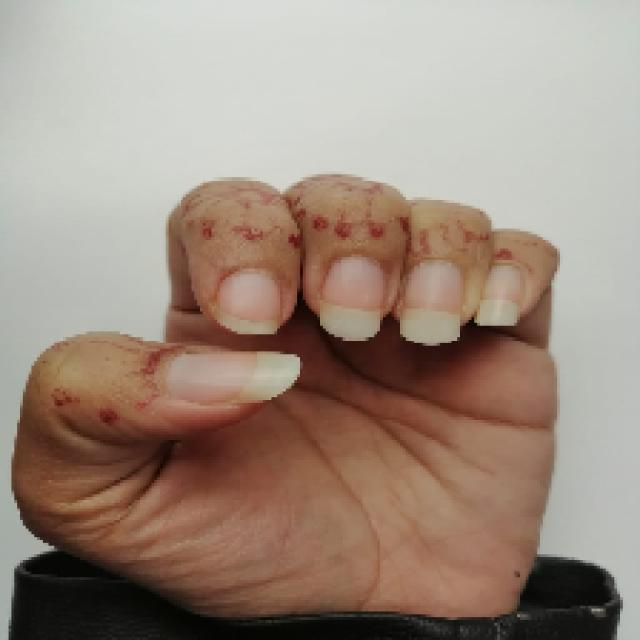Nail: (166, 351, 300, 402), (318, 258, 386, 340), (399, 260, 463, 345), (218, 270, 281, 334), (475, 263, 524, 325)
